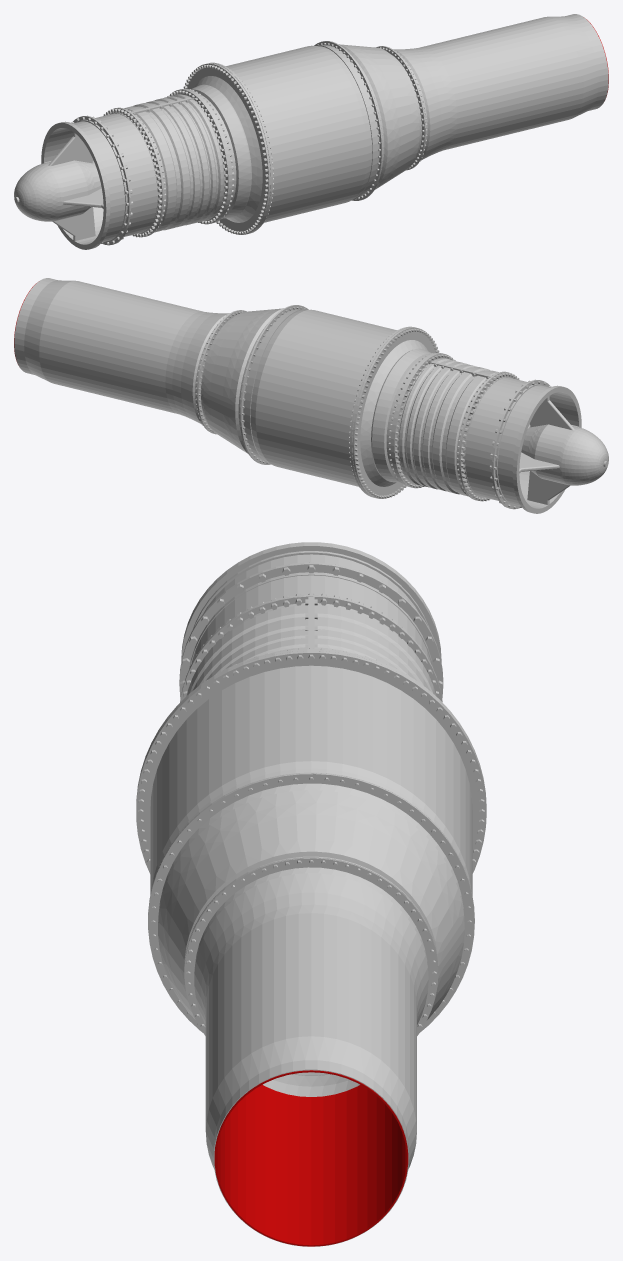
Rendered from Orpheus MK 803 - 02A.dae.
The picture shows the model from 3 angles, top to bottom: view 1: azimuth 30°, elevation 25°; view 2: azimuth 150°, elevation 25°; view 3: azimuth 270°, elevation 25°; orthographic projection. The views are drawn at different scales.
Visible parts, largest first — view 1: node13, node4, node1, node11, node3, node10, node2; view 2: node13, node4, node1, node11, node3, node10, node2; view 3: node13, node4, node10, node16, node11, node2, node1, node3.
Boxes of the visible parts, x1,y1,x2,y2 form: node13: (383,14,608,167); node4: (209,41,383,233); node1: (14,116,130,249); node11: (115,89,230,236); node3: (182,63,270,234); node10: (92,41,427,199); node2: (69,108,163,243); node13: (14,278,239,430); node4: (239,305,415,497); node1: (492,380,608,513); node11: (392,353,505,500); node3: (352,327,440,498); node10: (195,305,530,462); node2: (459,372,553,507); node13: (184,858,438,1246); node4: (136,651,486,1026); node10: (148,773,474,1075); node16: (214,1070,408,1246); node11: (180,596,442,702); node2: (179,563,443,701); node1: (179,542,443,680); node3: (136,648,485,795).
Bounding box in the file's own units: 3.37 × 0.9002 × 0.9004.
